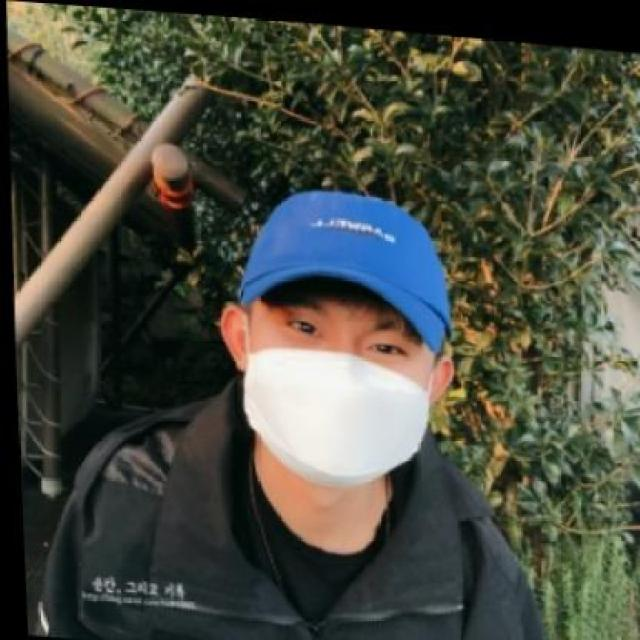hat: (222, 170, 455, 352)
